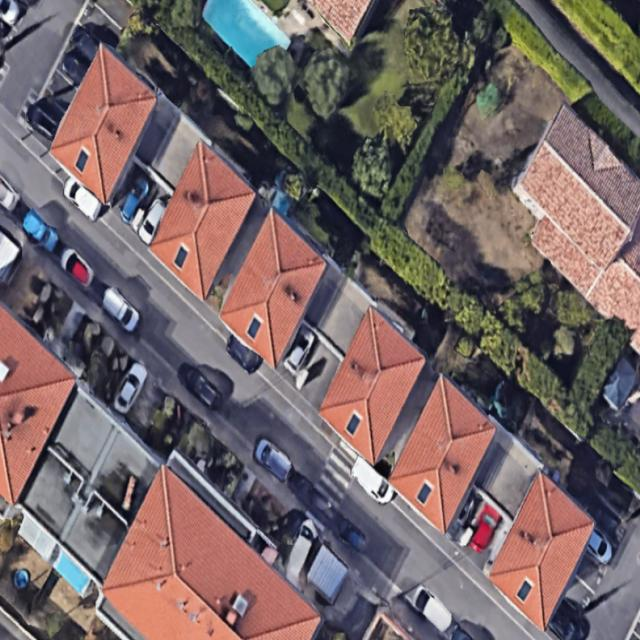immeuble: (69, 464, 330, 640), (0, 306, 75, 504)
maison: (374, 375, 510, 534), (38, 45, 171, 207), (474, 473, 607, 631), (208, 208, 337, 369), (137, 141, 267, 300), (308, 307, 433, 464)
